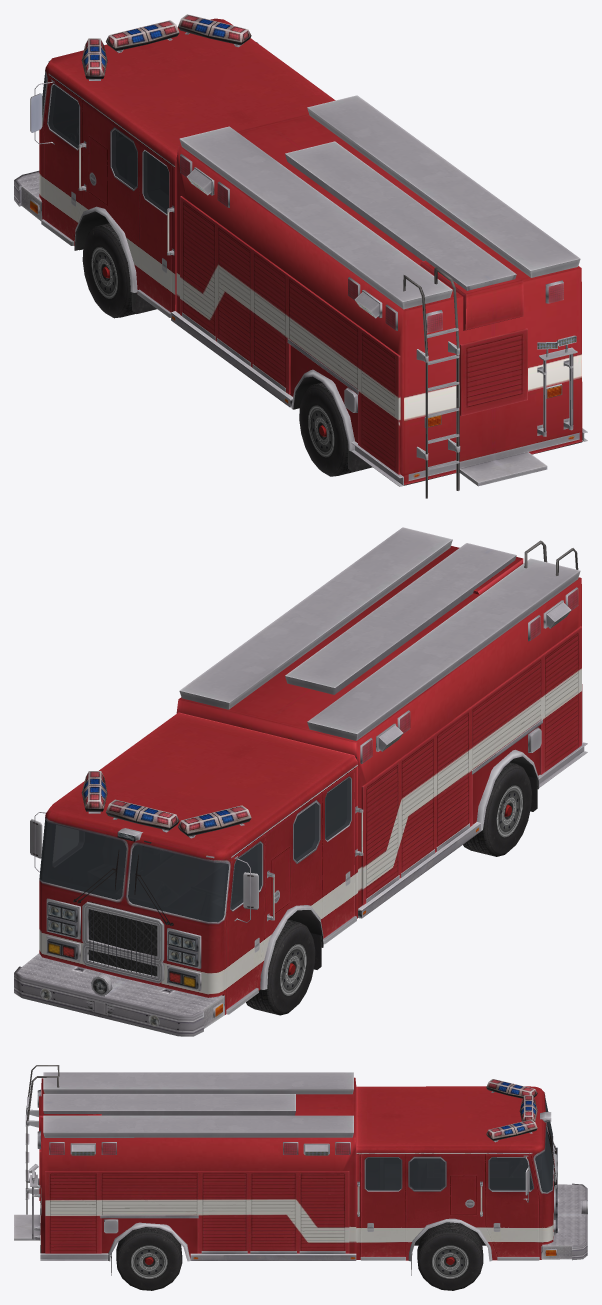
The model's file is Firetruck.glb.
3 renders of one model, top to bottom at view 1: azimuth 30°, elevation 25°; view 2: azimuth 150°, elevation 25°; view 3: azimuth 270°, elevation 25°, orthographic. The views are drawn at different scales.
Visible parts, largest first — view 1: Firetruck__LOD4; view 2: Firetruck__LOD4; view 3: Firetruck__LOD4.
Part boxes in pixels (x1,y1,x2,y2): Firetruck__LOD4: (14, 14, 587, 498); Firetruck__LOD4: (14, 527, 587, 1036); Firetruck__LOD4: (14, 1065, 587, 1290).
Size of the model in its own units: 3.59 by 3.65 by 11.24.
2 materials, 2 textured.
